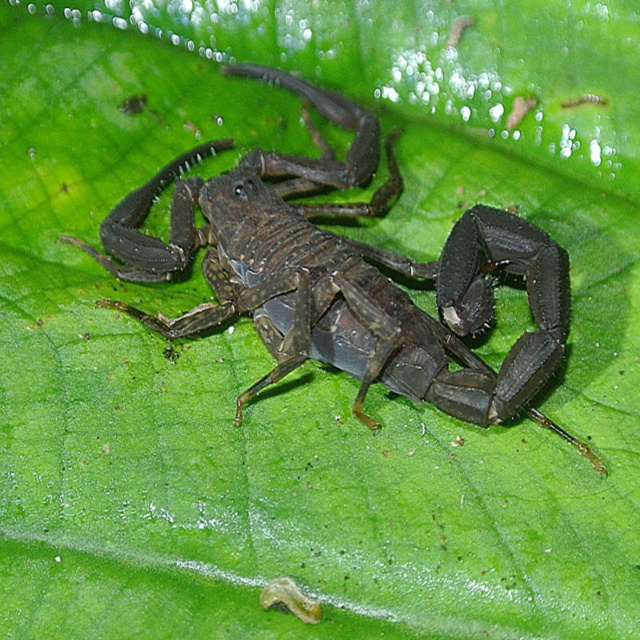Scorpion: (50, 57, 607, 472)
